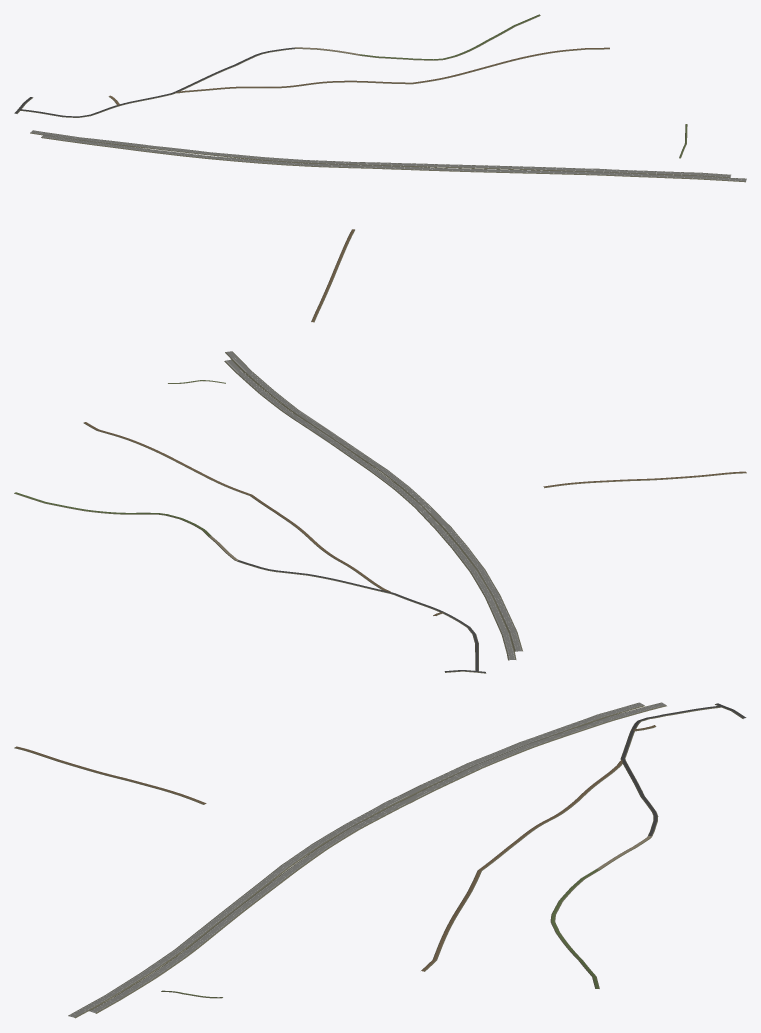
3 views of the same model, one above another, from view 1: azimuth 30°, elevation 25°; view 2: azimuth 150°, elevation 25°; view 3: azimuth 270°, elevation 25° (orthographic). The views are drawn at different scales.
Visible parts, largest first — view 1: roads; view 2: roads; view 3: roads.
Boxes of the visible parts, left/top/right/bottom form: roads: left=14, top=14, right=746, bottom=322; roads: left=14, top=351, right=746, bottom=673; roads: left=14, top=702, right=746, bottom=1018.
Bounding box in the file's own units: 817 × 82.35 × 805.
